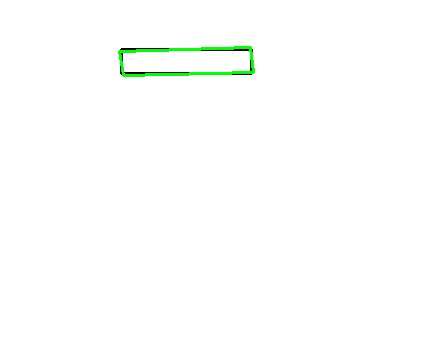line_segment: (119, 47, 254, 76)
